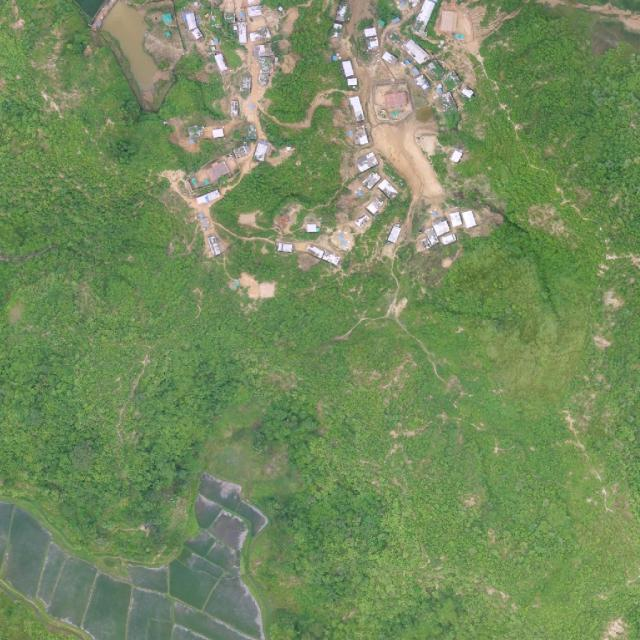building: (401, 37, 430, 66), (181, 9, 205, 43), (205, 159, 232, 184), (205, 231, 227, 257), (354, 151, 379, 173), (440, 69, 463, 92), (365, 195, 387, 217), (377, 179, 399, 201), (349, 95, 366, 123), (362, 25, 381, 50), (425, 59, 446, 81), (362, 170, 383, 191), (386, 222, 404, 246), (196, 190, 221, 207), (252, 139, 269, 163), (414, 73, 434, 93), (432, 217, 451, 237), (304, 243, 326, 260), (248, 26, 270, 42), (354, 212, 373, 230), (259, 58, 271, 86), (458, 84, 476, 102), (245, 0, 263, 18), (461, 209, 477, 229), (353, 125, 369, 145), (252, 44, 274, 58), (322, 250, 341, 266), (380, 51, 399, 67), (231, 143, 250, 159), (213, 52, 228, 72), (335, 1, 349, 22), (450, 147, 465, 165), (448, 211, 463, 228), (341, 59, 354, 78), (440, 232, 457, 246), (240, 74, 252, 92), (237, 21, 246, 43), (245, 124, 256, 140), (345, 77, 359, 89), (276, 243, 294, 252), (229, 100, 239, 116), (211, 129, 224, 139), (306, 224, 320, 233), (162, 14, 173, 23)
dryland: (305, 2, 472, 172), (368, 111, 448, 217), (428, 0, 486, 87)
greenland: (205, 106, 346, 216)
